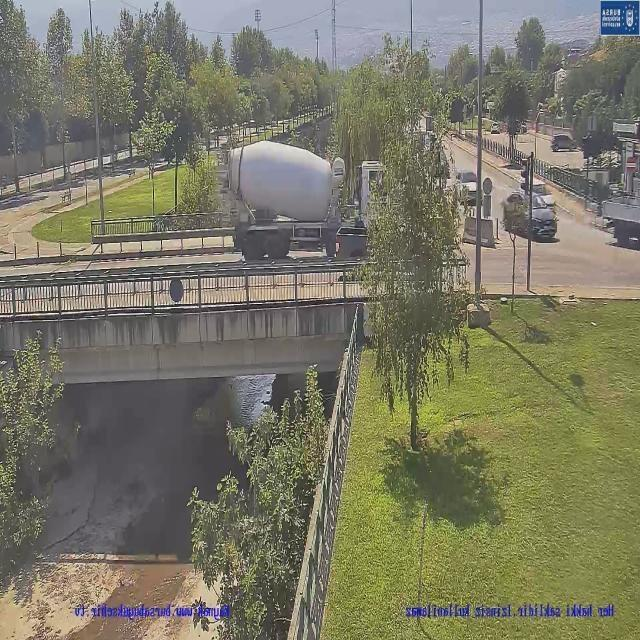Car: (502, 190, 557, 239), (518, 176, 556, 211), (454, 170, 482, 207), (550, 134, 579, 152), (490, 121, 501, 135)
Truck: (221, 140, 393, 258)
